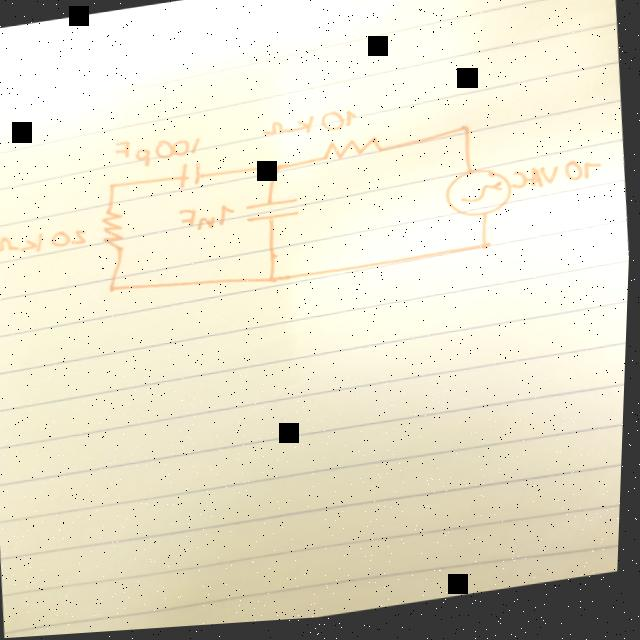capacitor: (233, 194, 308, 233), (164, 158, 213, 200)
junction: (474, 242, 495, 263), (264, 163, 289, 180), (453, 125, 475, 144), (103, 281, 125, 299), (264, 274, 283, 291), (103, 179, 120, 193)
resistor: (322, 134, 383, 172), (95, 209, 132, 254)
source: (439, 168, 517, 230)
text: (258, 105, 361, 146), (112, 128, 203, 171), (506, 164, 606, 199), (0, 222, 90, 258), (177, 203, 236, 236)
